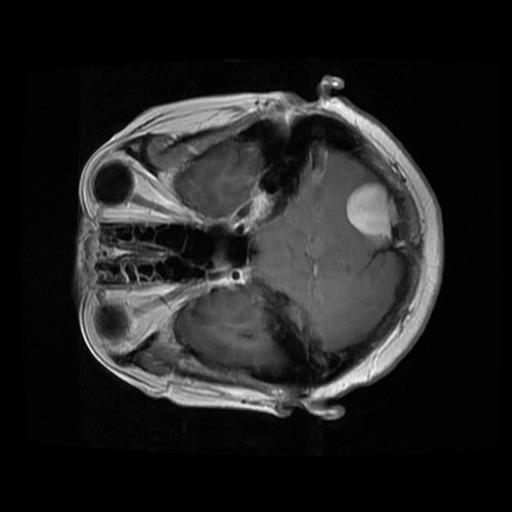meningioma: (345, 182, 397, 237)
